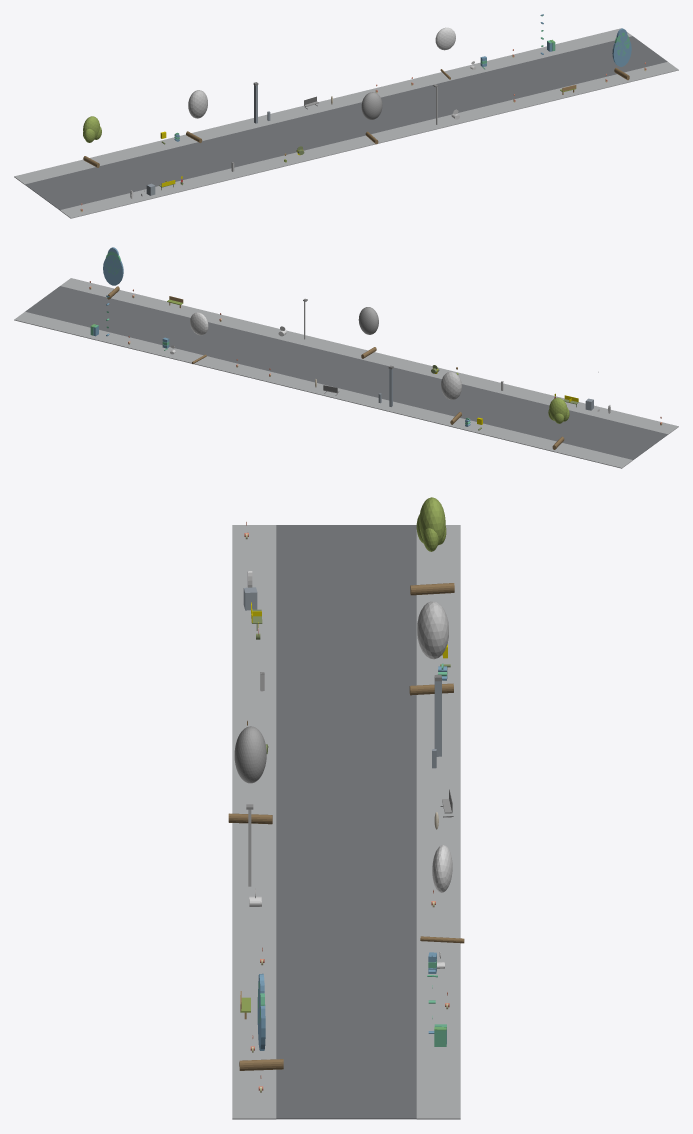
The picture shows the model from 3 angles, top to bottom: view 1: azimuth 30°, elevation 25°; view 2: azimuth 150°, elevation 25°; view 3: azimuth 270°, elevation 25°; orthographic projection. The views are drawn at different scales.
Visible parts, largest first — view 1: road_slab, sidewalk_left, sidewalk_right, inst_0016, inst_0014, inst_0013, inst_0012, inst_0015; view 2: road_slab, sidewalk_right, sidewalk_left, inst_0016, inst_0013, inst_0014, inst_0012, inst_0015; view 3: road_slab, sidewalk_left, sidewalk_right, inst_0014, inst_0013, inst_0012, inst_0016, inst_0015.
Boxes of the visible parts, x1=… form: road_slab: x1=25, y1=36, x2=667, y2=210; sidewalk_left: x1=60, y1=62, x2=678, y2=218; sidewalk_right: x1=14, y1=28, x2=632, y2=184; inst_0016: x1=612, y1=28, x2=631, y2=80; inst_0014: x1=361, y1=92, x2=382, y2=144; inst_0013: x1=186, y1=90, x2=207, y2=142; inst_0012: x1=83, y1=116, x2=101, y2=167; inst_0015: x1=435, y1=27, x2=455, y2=79; road_slab: x1=25, y1=286, x2=667, y2=459; sidewalk_right: x1=14, y1=311, x2=632, y2=468; sidewalk_left: x1=60, y1=278, x2=678, y2=434; inst_0016: x1=103, y1=247, x2=123, y2=299; inst_0013: x1=441, y1=371, x2=461, y2=424; inst_0014: x1=358, y1=307, x2=378, y2=358; inst_0012: x1=548, y1=397, x2=569, y2=449; inst_0015: x1=190, y1=312, x2=208, y2=363; road_slab: x1=276, y1=525, x2=416, y2=1119; sidewalk_left: x1=232, y1=525, x2=276, y2=1119; sidewalk_right: x1=416, y1=525, x2=460, y2=1119; inst_0014: x1=228, y1=726, x2=272, y2=824; inst_0013: x1=409, y1=601, x2=453, y2=695; inst_0012: x1=410, y1=497, x2=454, y2=595; inst_0016: x1=239, y1=973, x2=283, y2=1070; inst_0015: x1=420, y1=845, x2=464, y2=943.
Size of the model in its own units: 80 by 6.08 by 13.45.
